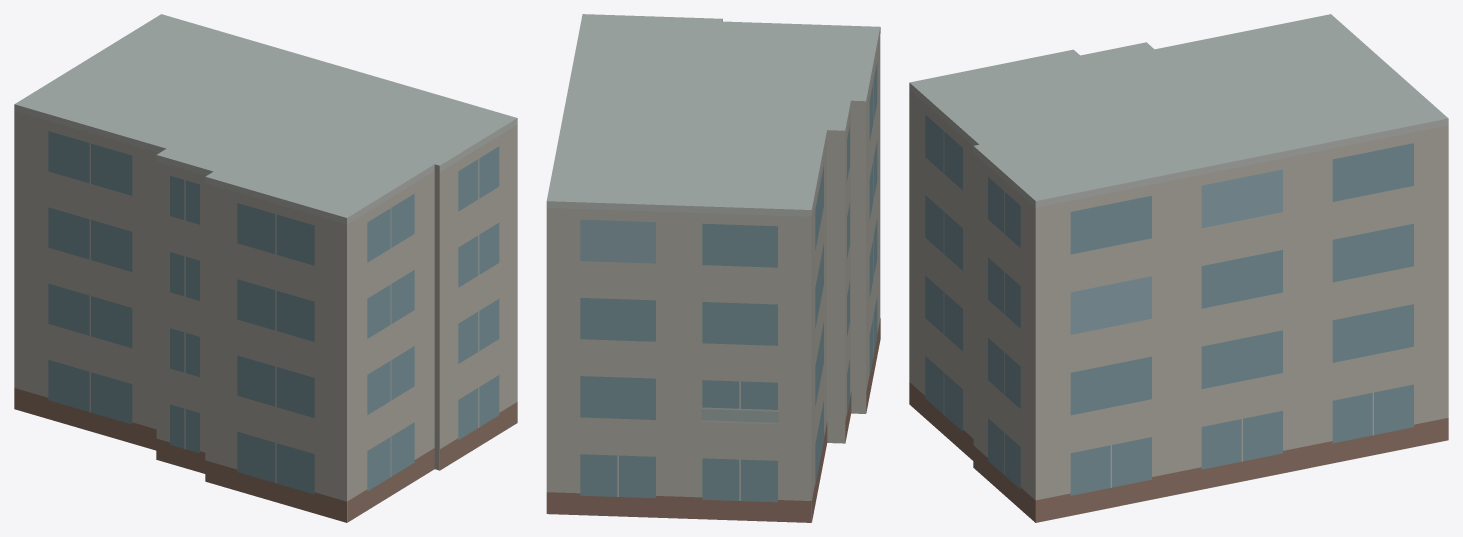
The model's file is survey-upis-32588929.glb.
3 renders of one model, left to right at view 1: azimuth 30°, elevation 25°; view 2: azimuth 150°, elevation 25°; view 3: azimuth 270°, elevation 25°, orthographic. The views are drawn at different scales.
Parts seen in each view (by area): view 1: survey-upis-32588929.tmp; view 2: survey-upis-32588929.tmp; view 3: survey-upis-32588929.tmp.
Boxes of the visible parts, bbox=[...] form: survey-upis-32588929.tmp: bbox=[14, 14, 517, 522]; survey-upis-32588929.tmp: bbox=[546, 14, 880, 522]; survey-upis-32588929.tmp: bbox=[909, 14, 1448, 522].
Size of the model in its own units: 14.23 by 11.4 by 17.32.
